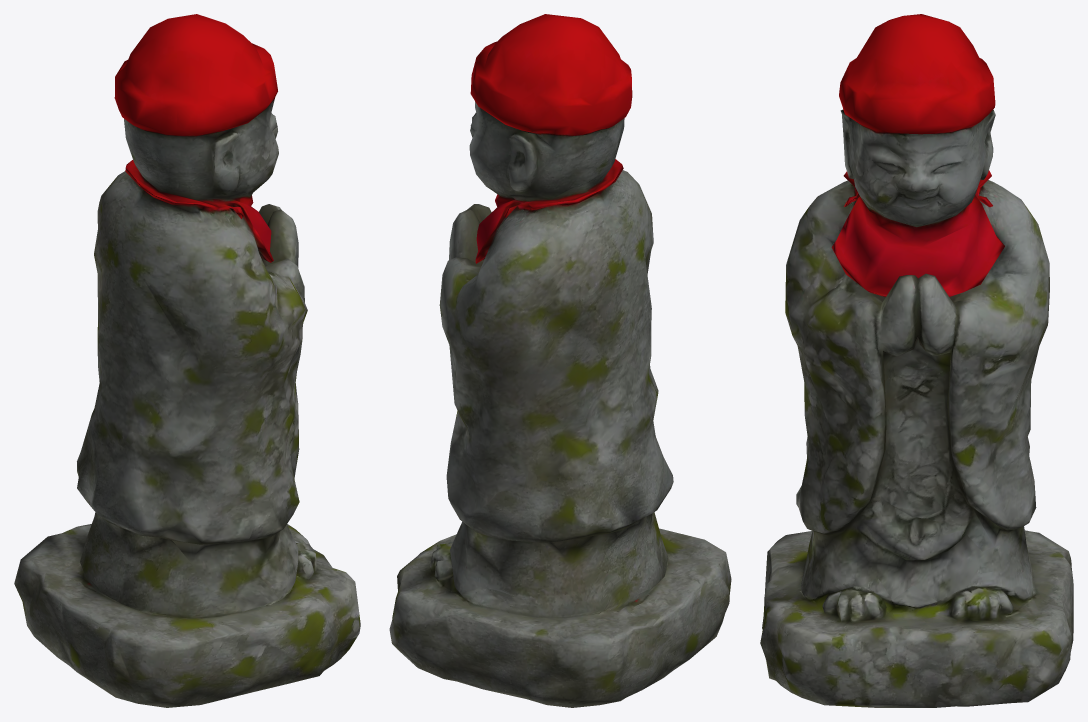
The model's file is jizo.glb.
3 renders of one model, left to right at view 1: azimuth 30°, elevation 25°; view 2: azimuth 150°, elevation 25°; view 3: azimuth 270°, elevation 25°, orthographic. The views are drawn at different scales.
Parts seen in each view (by area): view 1: tripo_node_385f63ce-ec41-4040-8393-70c0dc01f53e; view 2: tripo_node_385f63ce-ec41-4040-8393-70c0dc01f53e; view 3: tripo_node_385f63ce-ec41-4040-8393-70c0dc01f53e.
Part boxes in pixels (x1,y1,x2,y2): tripo_node_385f63ce-ec41-4040-8393-70c0dc01f53e: (14, 14, 360, 707); tripo_node_385f63ce-ec41-4040-8393-70c0dc01f53e: (389, 14, 731, 707); tripo_node_385f63ce-ec41-4040-8393-70c0dc01f53e: (760, 14, 1073, 707).
Bounding box in the file's own units: 0.4219 × 0.9997 × 0.4468.
1 material, 1 textured.
